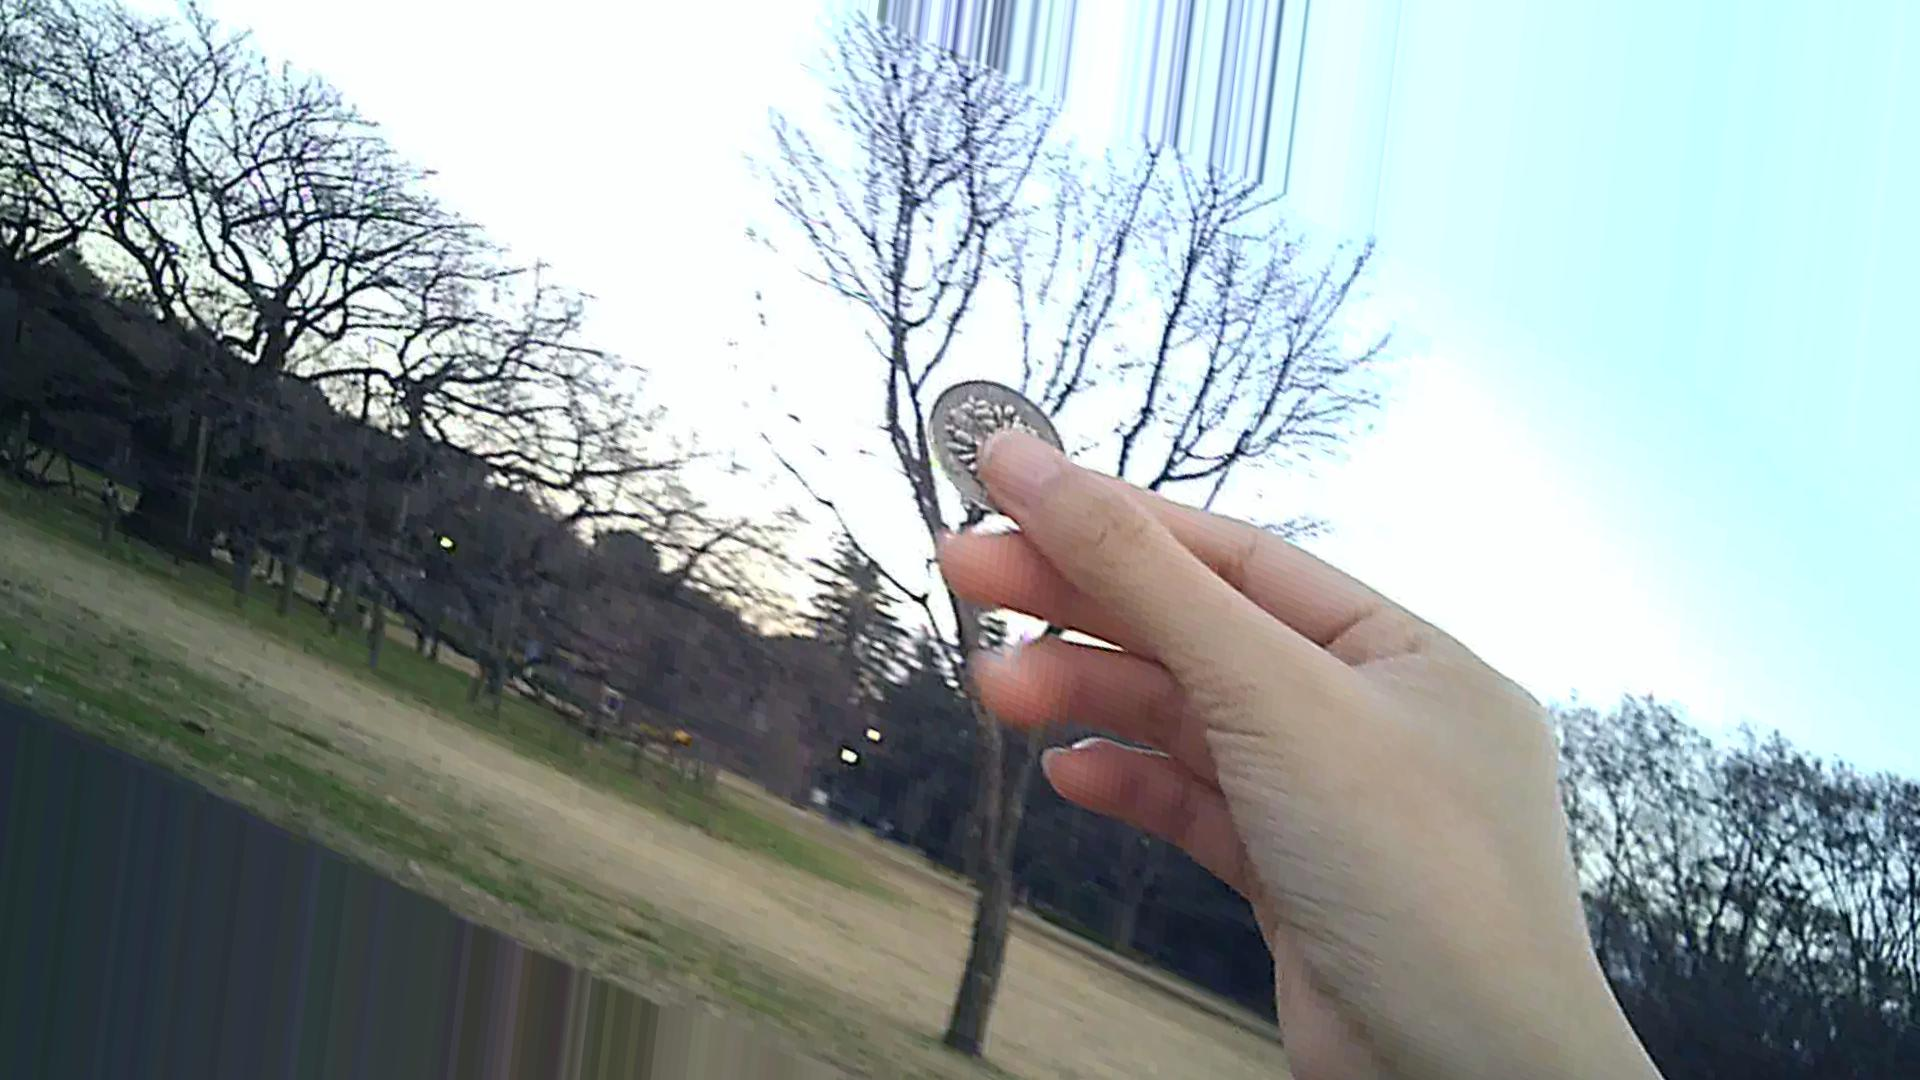100 Yen: (914, 375, 1065, 535)
